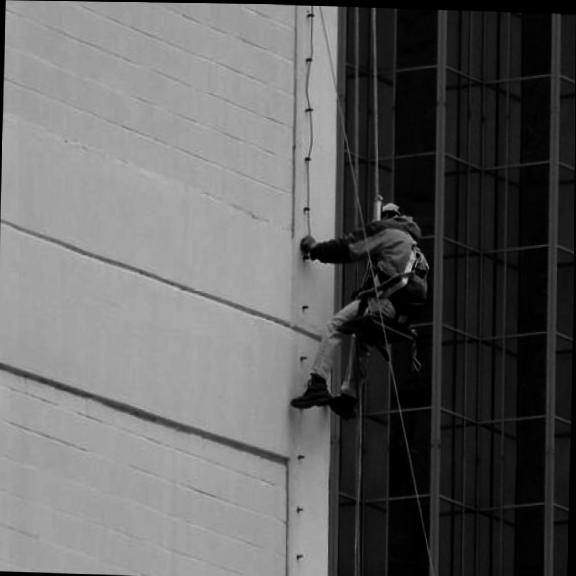safety_vest: (346, 217, 433, 306)
